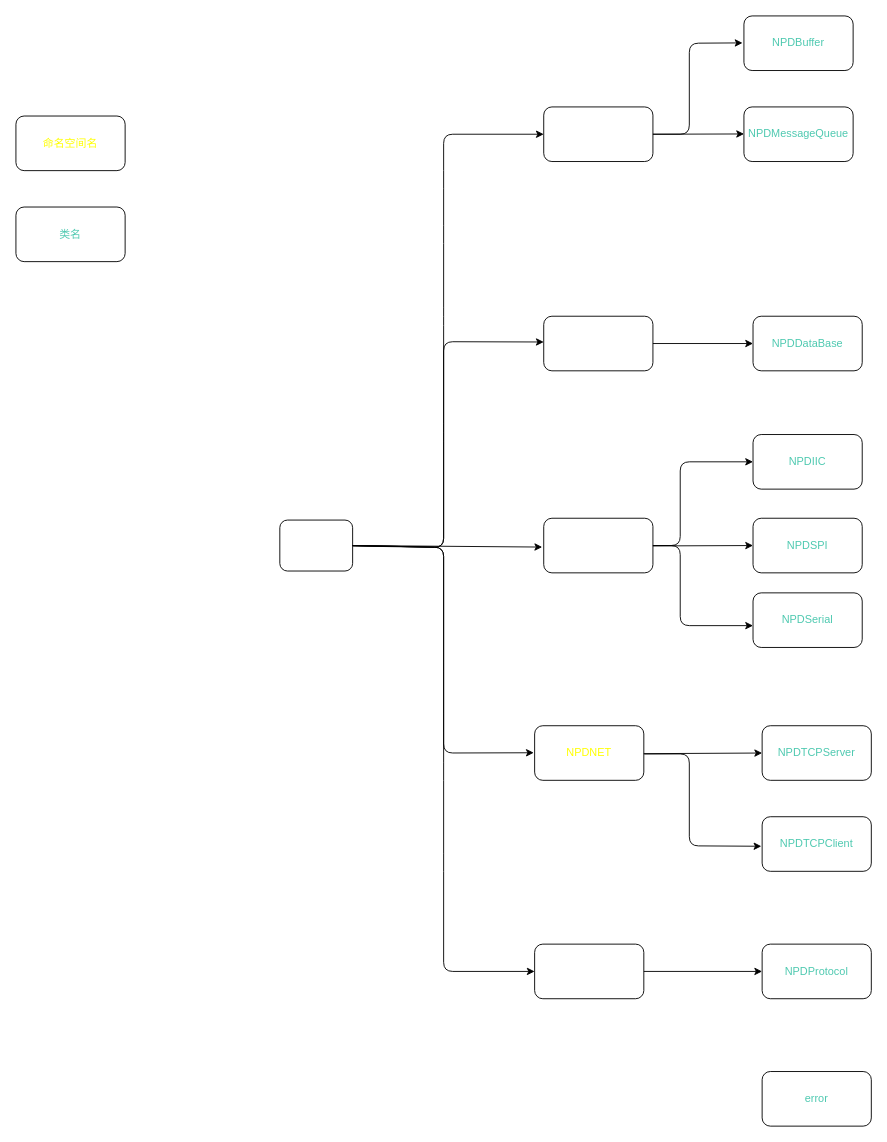
This 887x1142 diagram has some shape labels left out. The shapes that lost their labels are listed below. From the top down, each one's centre as x and y in pixels, then its label:
the point at 598,134: NPDBASE
the point at 598,343: NPDDB
the point at 316,545: NPD
the point at 598,545: NPDDEV
the point at 589,971: NPDCOMM
